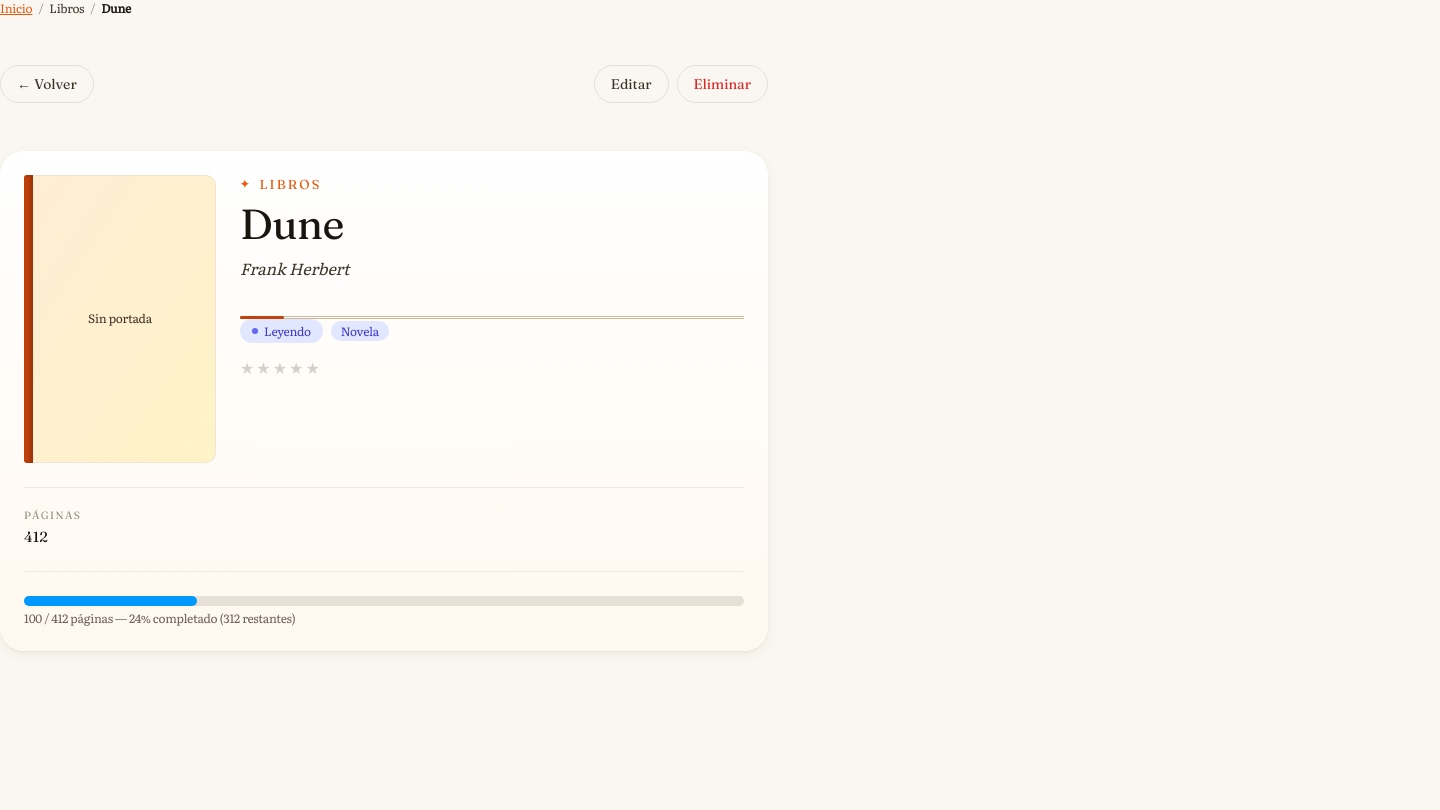
BookDetailPage progreso › error de API muestra banner sin romper
Click the button named "Actualizar páginas leídas" at (384, 601), box [24,596,744,606]
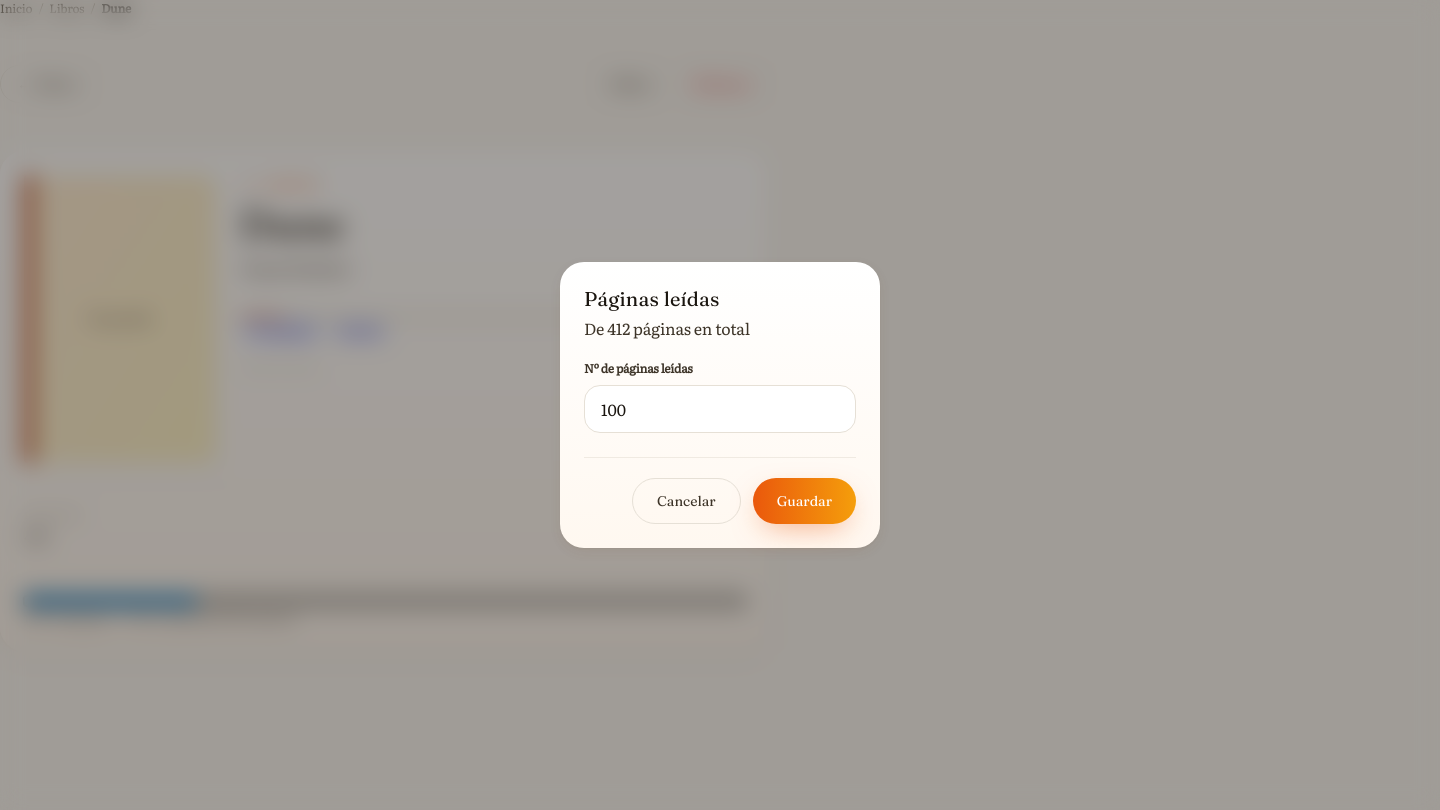
Replace the text in the number field labelled "Nº de páginas leídas" with "150" at (720, 409), box [584,385,856,433]
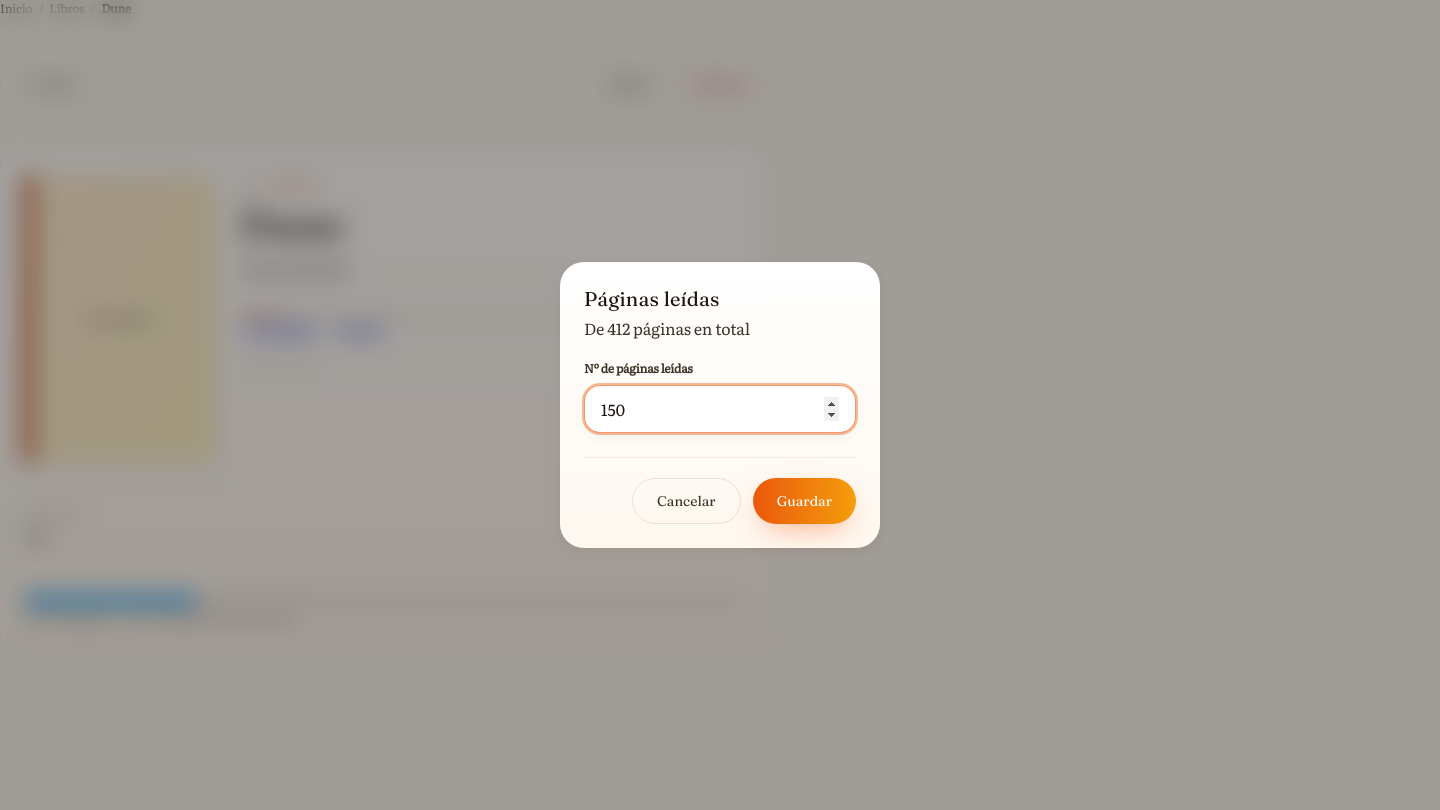
Click the button "Guardar" at (804, 501), box [753,478,856,524]
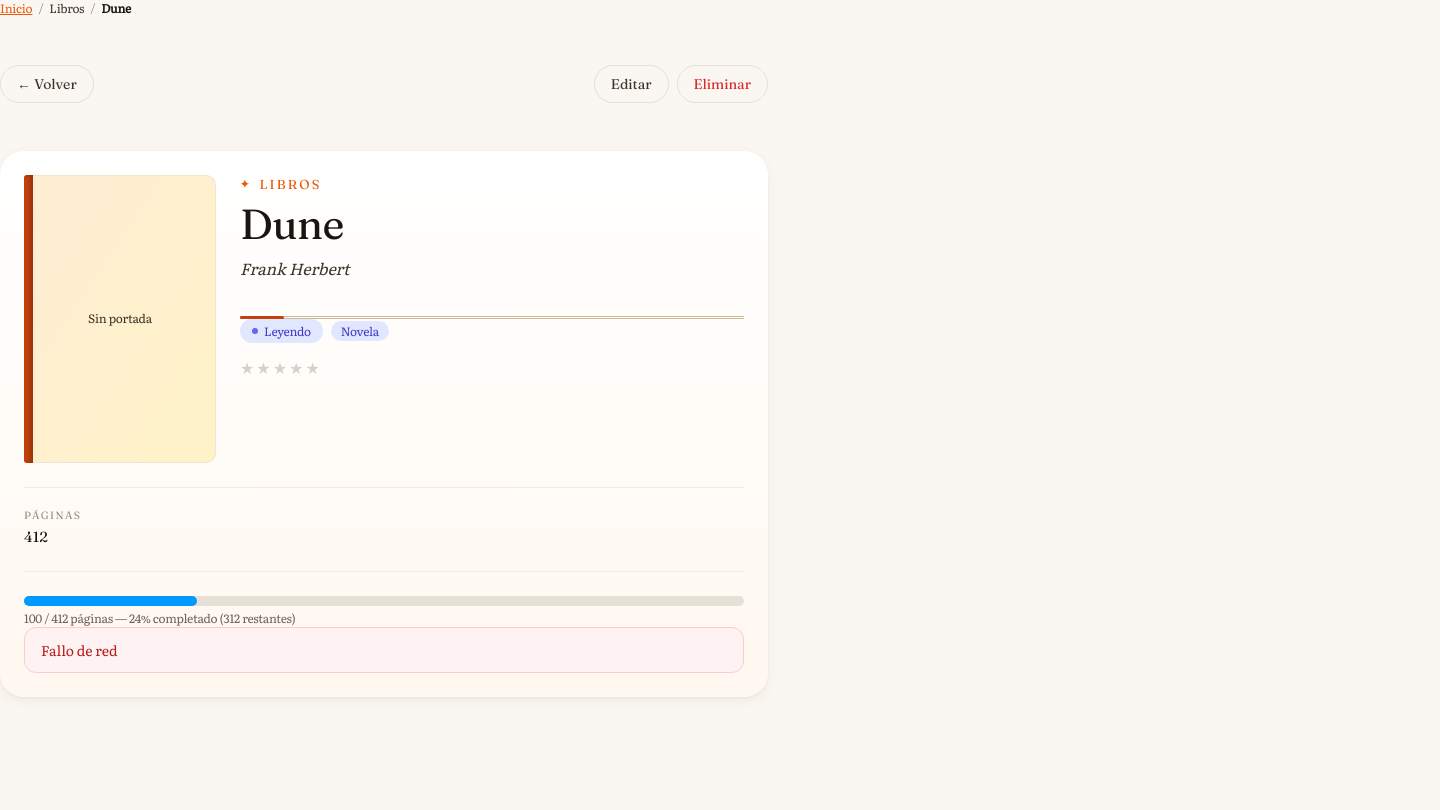
Expected: the message reads "Fallo de red", [41,640,118,660]
